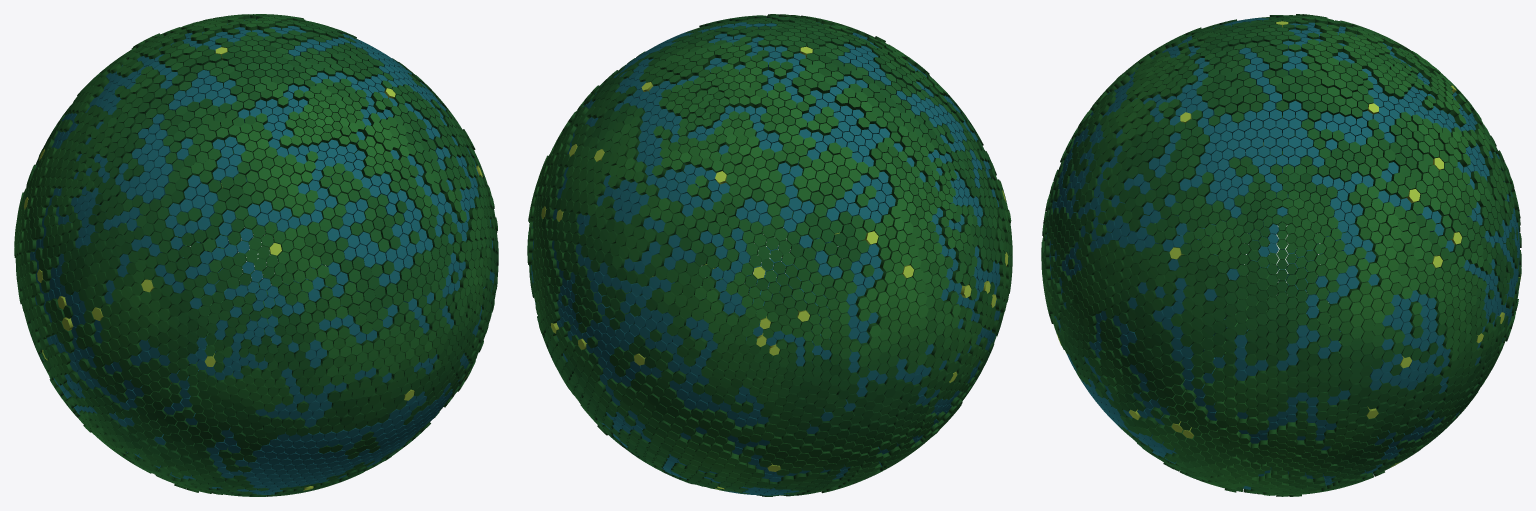
File: jungle_1.glb
3 renders of one model, left to right at view 1: azimuth 30°, elevation 25°; view 2: azimuth 150°, elevation 25°; view 3: azimuth 270°, elevation 25°, orthographic.
Visible parts, largest first — view 1: jungle_1; view 2: jungle_1; view 3: jungle_1.
Boxes of the visible parts, x1,y1,x2,y2 form: jungle_1: (14,14,498,496); jungle_1: (527,14,1012,496); jungle_1: (1041,14,1521,496).
Size of the model in its own units: 2.03 by 2.01 by 2.02.
